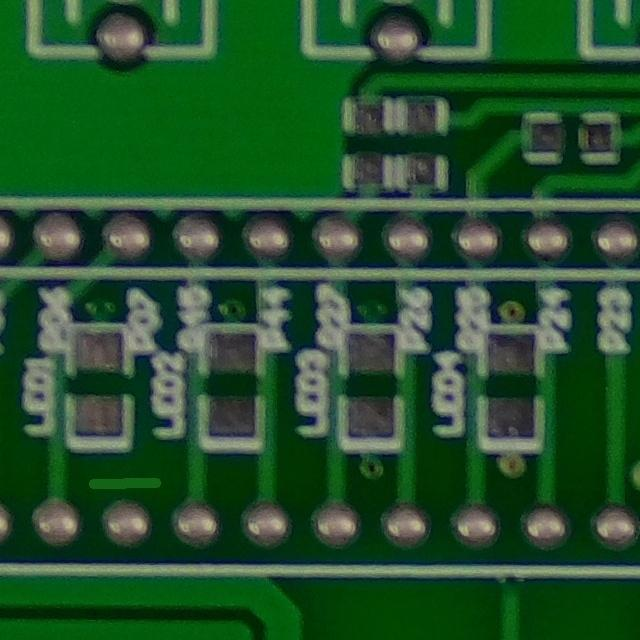spurious_copper: (70, 457, 178, 507)
